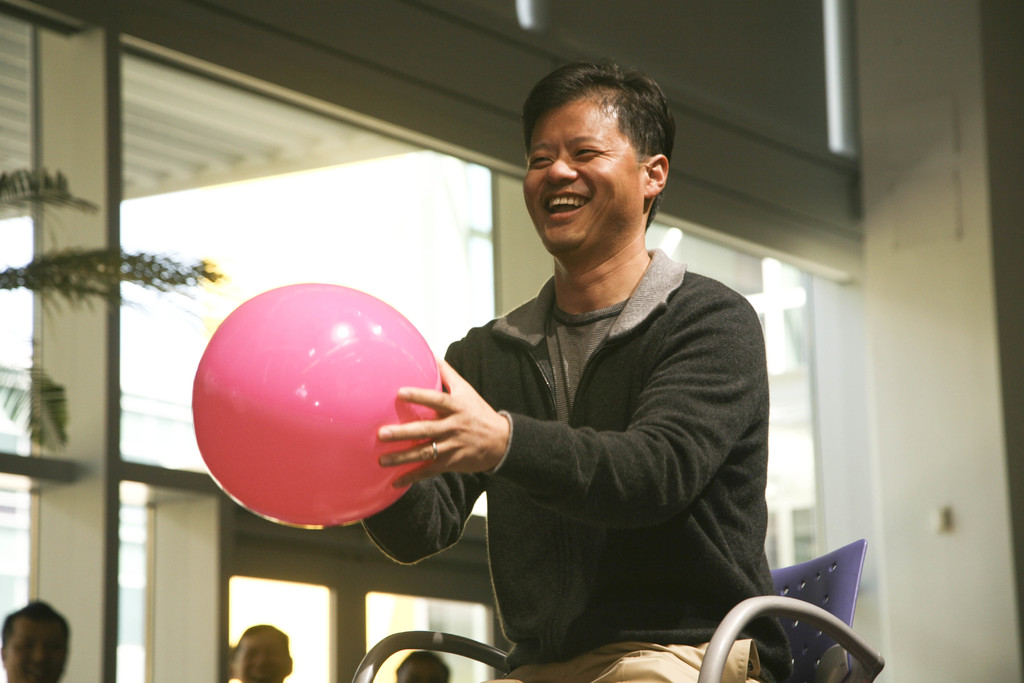Ball: (193, 283, 445, 527)
